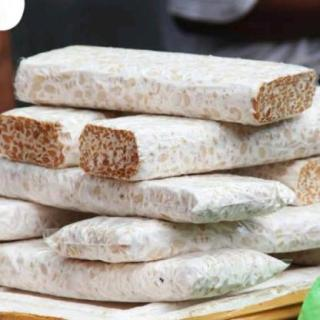Tempe: (13, 43, 319, 129)
